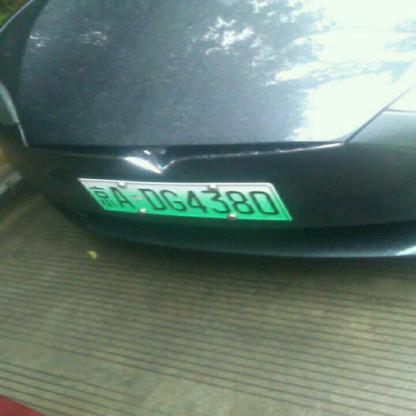lp: (78, 179, 286, 218)
